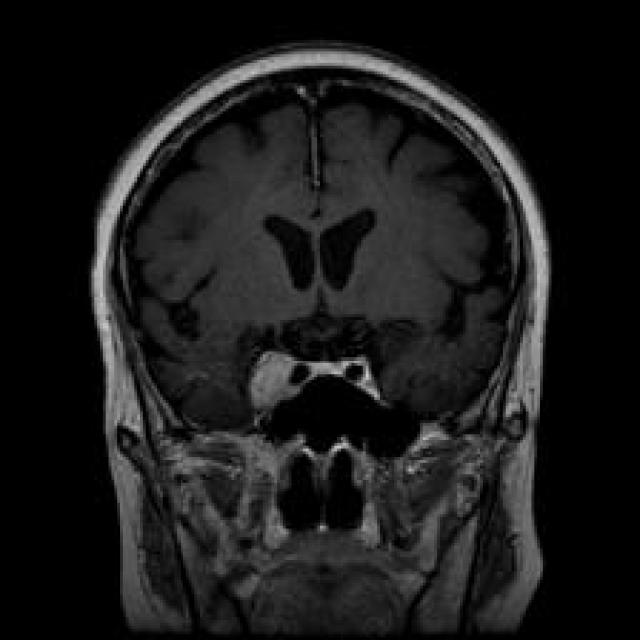meningioma_tumor: (230, 324, 338, 418)
